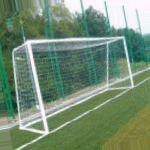goals: (10, 34, 136, 136)
